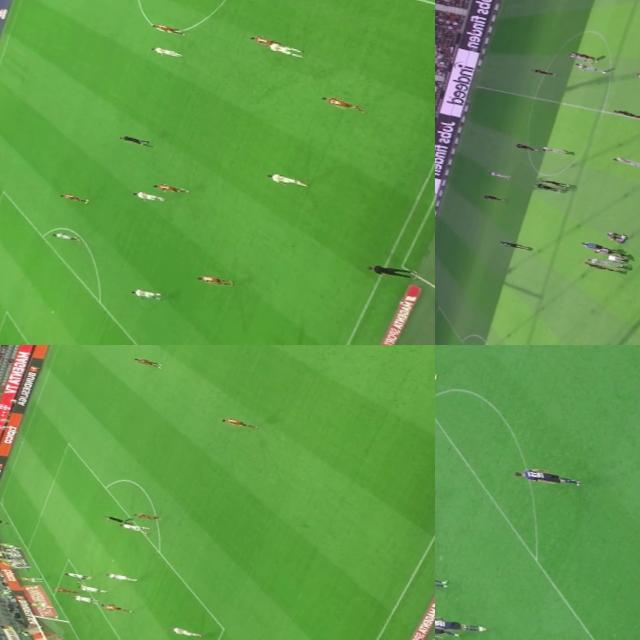player: (508, 461, 584, 492), (435, 610, 479, 635), (264, 168, 309, 189), (316, 92, 361, 111), (193, 270, 238, 288), (218, 414, 261, 431), (127, 188, 168, 205), (56, 188, 92, 206), (267, 41, 305, 58), (124, 284, 162, 300), (150, 180, 188, 195), (148, 43, 185, 58), (571, 60, 608, 74), (167, 624, 204, 638), (580, 258, 616, 272), (75, 580, 110, 594), (118, 521, 150, 536), (435, 618, 459, 638), (48, 228, 82, 242), (609, 153, 640, 168), (151, 20, 180, 36), (132, 509, 164, 523), (100, 600, 132, 614), (62, 568, 94, 582), (586, 255, 620, 268), (104, 570, 138, 583), (565, 50, 596, 64), (247, 34, 283, 46), (610, 106, 640, 120), (131, 356, 164, 368), (497, 238, 529, 250), (52, 584, 84, 596), (532, 180, 561, 193), (570, 48, 599, 60), (538, 175, 567, 187), (72, 592, 101, 604), (528, 65, 556, 77), (510, 140, 537, 152), (479, 190, 504, 202), (485, 168, 510, 180), (541, 143, 568, 154), (604, 252, 626, 262)
